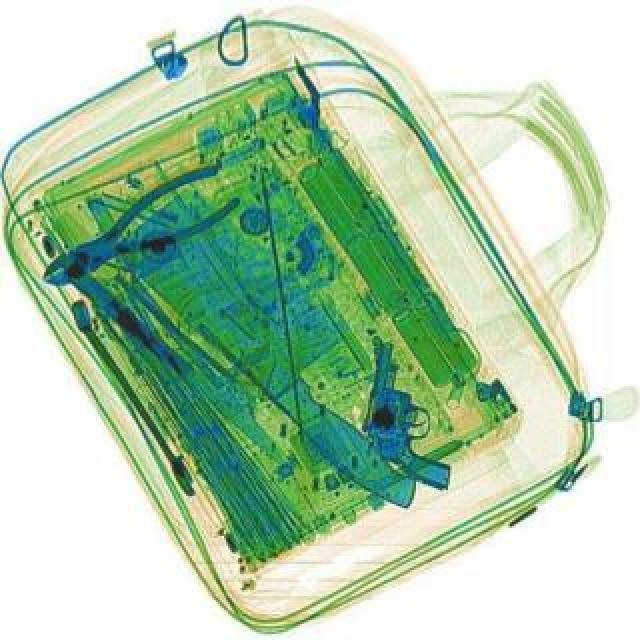gun: (354, 336, 466, 488)
knife: (112, 178, 468, 522)
wrench: (24, 156, 244, 300)
